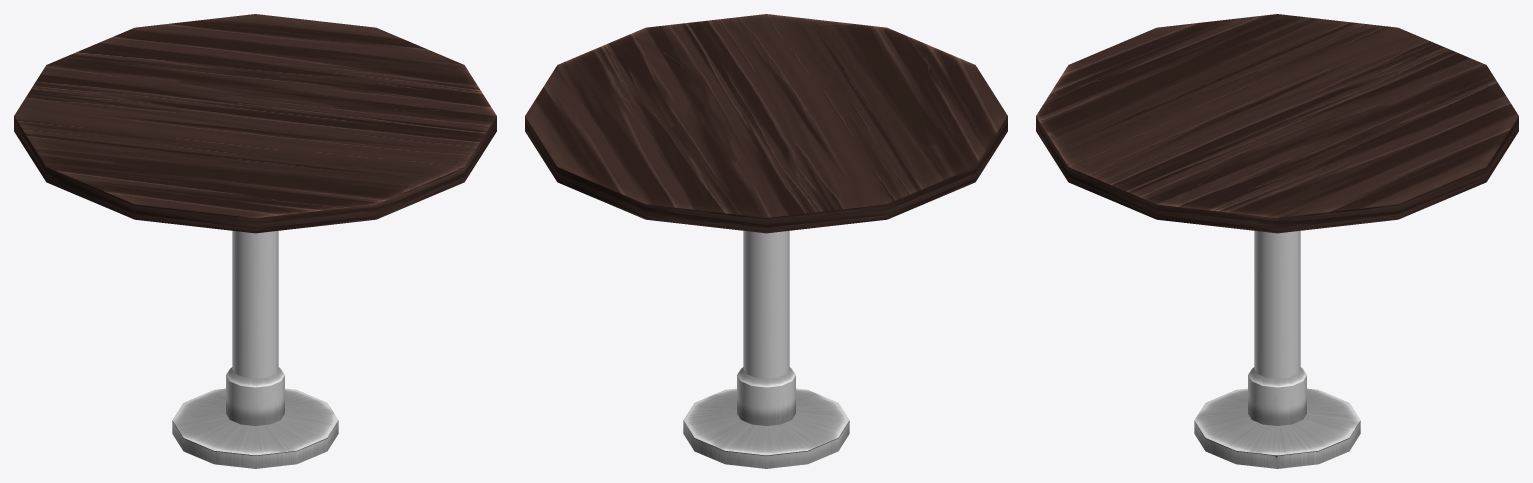
File: Biblioteca_MesaRedonda_001.fbx
The picture shows the model from 3 angles, left to right: view 1: azimuth 30°, elevation 25°; view 2: azimuth 150°, elevation 25°; view 3: azimuth 270°, elevation 25°; orthographic projection.
Parts seen in each view (by area): view 1: Biblioteca_MesaRedonda.001; view 2: Biblioteca_MesaRedonda.001; view 3: Biblioteca_MesaRedonda.001.
Boxes of the visible parts, x1=… form: Biblioteca_MesaRedonda.001: x1=14, y1=14, x2=496, y2=468; Biblioteca_MesaRedonda.001: x1=525, y1=14, x2=1007, y2=468; Biblioteca_MesaRedonda.001: x1=1036, y1=14, x2=1518, y2=468.
Bounding box in the file's own units: 131 × 94.88 × 131.
